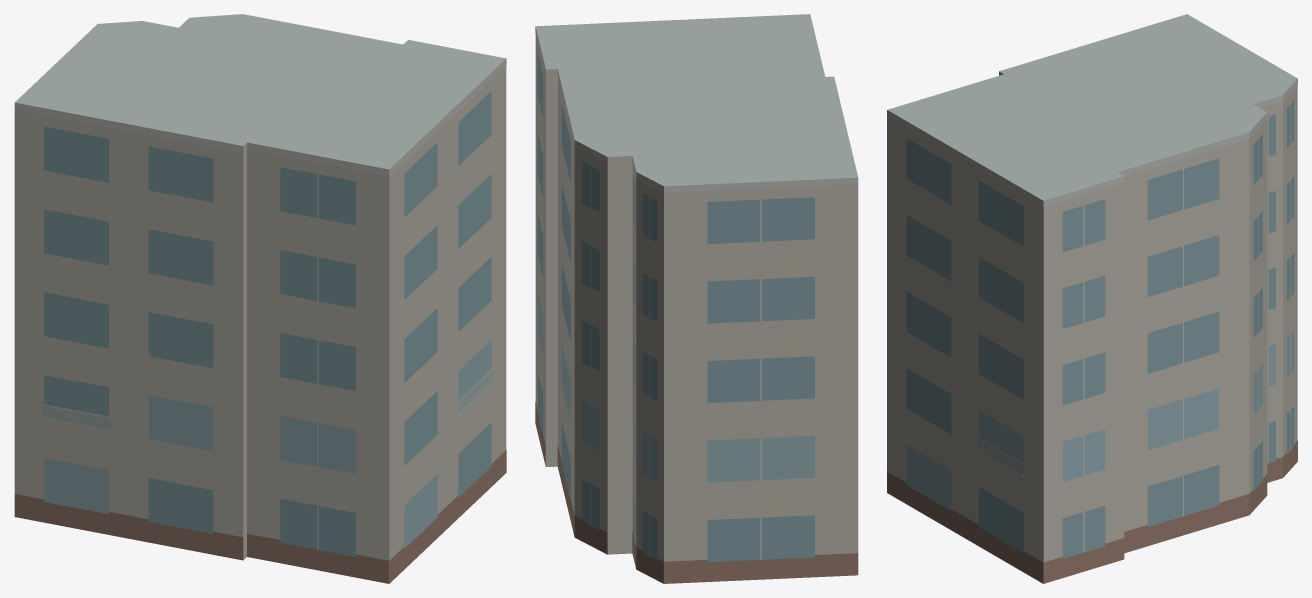
File: survey-upis-33010689.glb
The picture shows the model from 3 angles, left to right: view 1: azimuth 30°, elevation 25°; view 2: azimuth 150°, elevation 25°; view 3: azimuth 270°, elevation 25°; orthographic projection. The views are drawn at different scales.
Visible parts, largest first — view 1: survey-upis-33010689.tmp; view 2: survey-upis-33010689.tmp; view 3: survey-upis-33010689.tmp.
Boxes of the visible parts, box(x1,y1,x2,y2) form: survey-upis-33010689.tmp: box(14, 14, 506, 583); survey-upis-33010689.tmp: box(535, 14, 858, 583); survey-upis-33010689.tmp: box(887, 14, 1297, 583).
Size of the model in its own units: 15.17 by 14.5 by 14.1.
